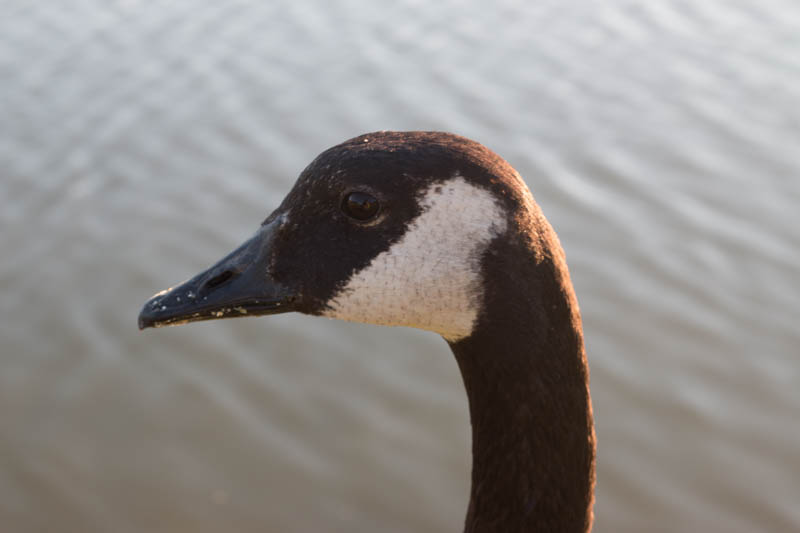goose-head: (137, 131, 580, 345)
